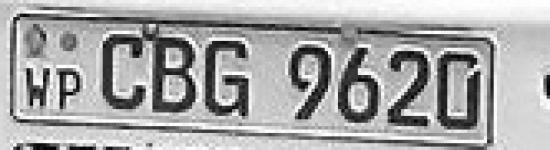0: (434, 43, 483, 135)
2: (386, 42, 434, 130)
6: (338, 39, 384, 129)
9: (283, 33, 335, 126)
B: (150, 28, 199, 118)
C: (96, 27, 148, 115)
G: (198, 31, 256, 125)
P: (54, 61, 87, 115)
W: (24, 61, 54, 111)
